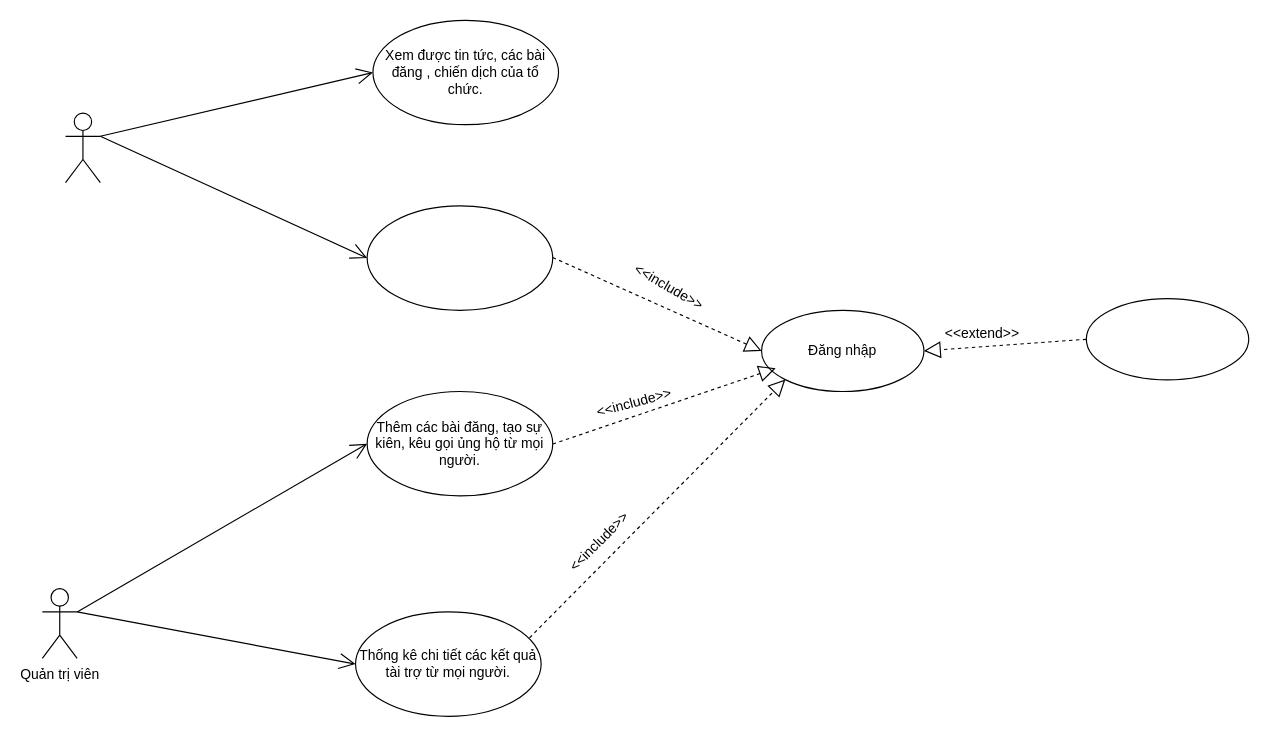
The diagram is 1269 pixels wide and 737 high, and some of its shapes have lost their labels. The centre of each missing label's shape, as x and y in pixels:
"Người dùng mạng" belongs at [82,147].
"Đăng xuất" belongs at [1167,339].
"Ủng hộ tiền cho chiến dịch của tổ chức," belongs at [459,257].
